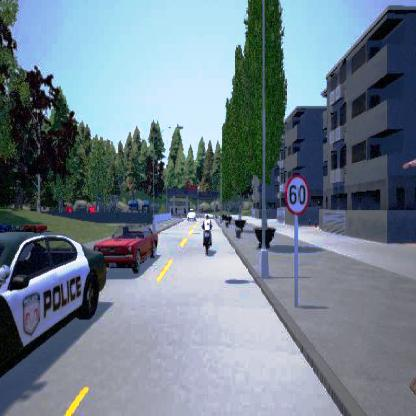vehicle: (0, 222, 107, 377), (92, 220, 160, 275)
